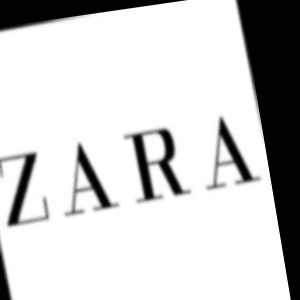zara: (240, 44, 265, 149)
